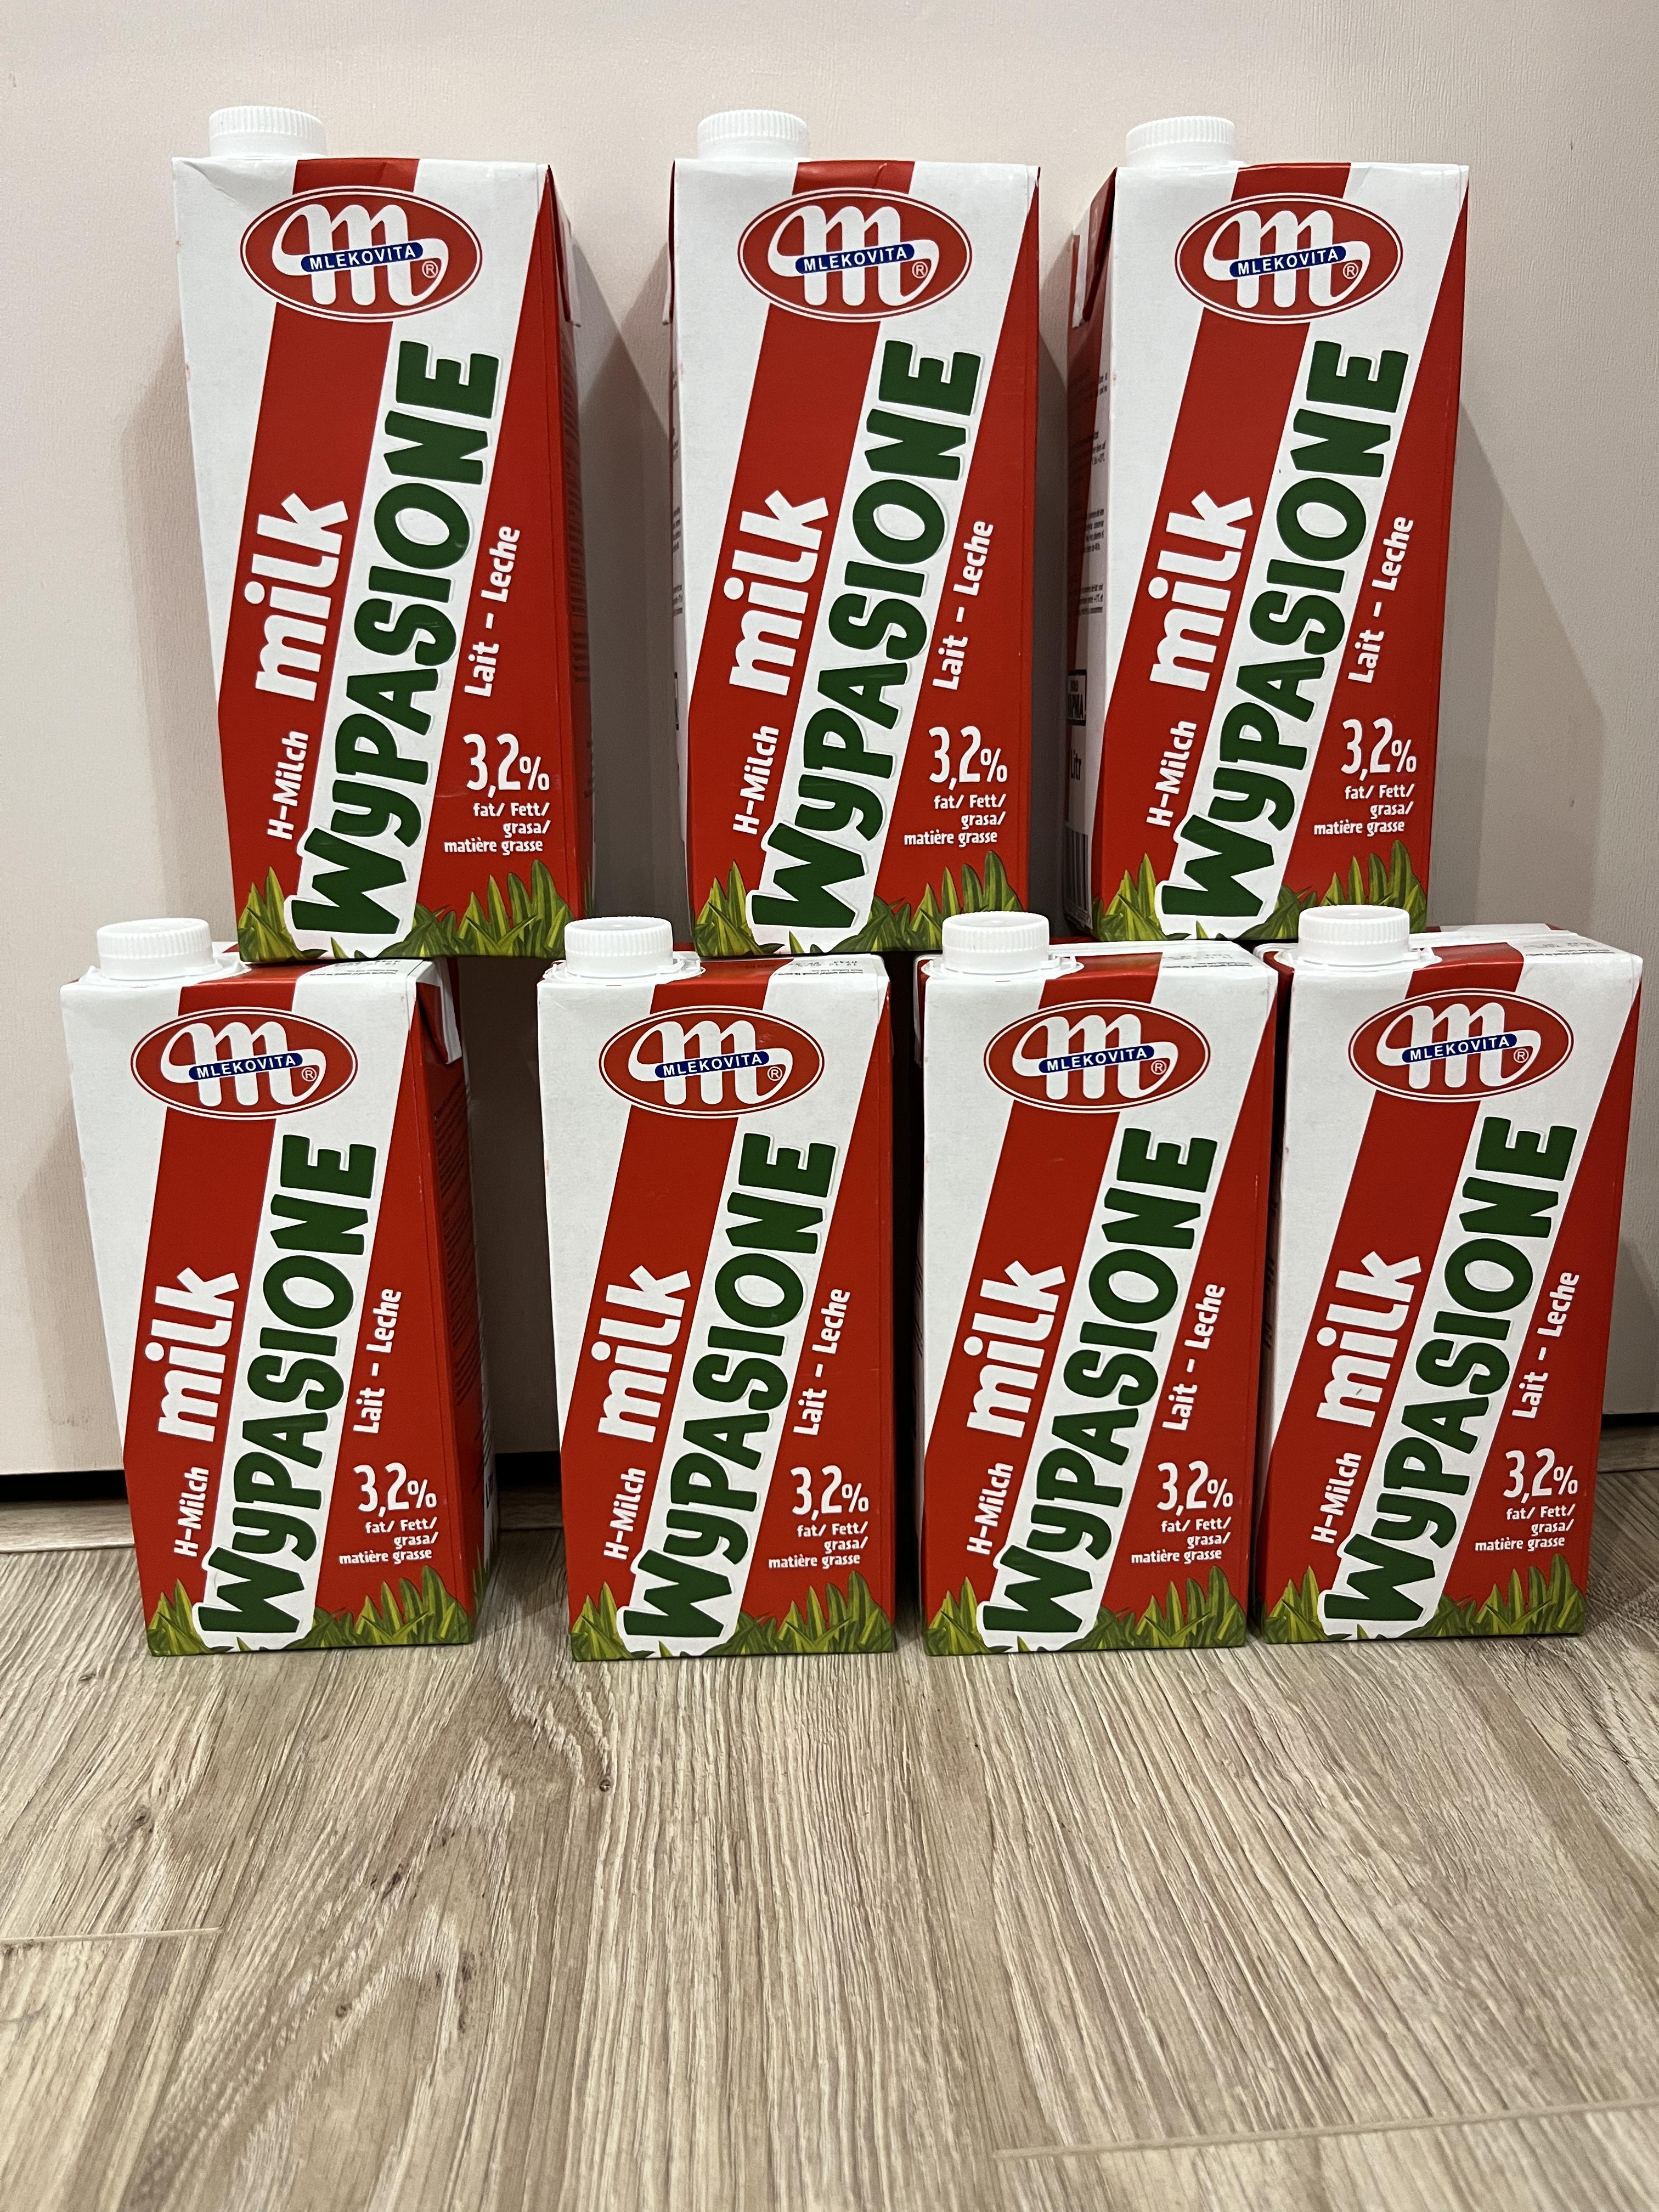Milk: (192, 157, 586, 948), (66, 970, 502, 1651), (681, 145, 1046, 937), (542, 958, 917, 1656), (1101, 158, 1438, 918), (1276, 930, 1614, 1641), (917, 937, 1236, 1653)
